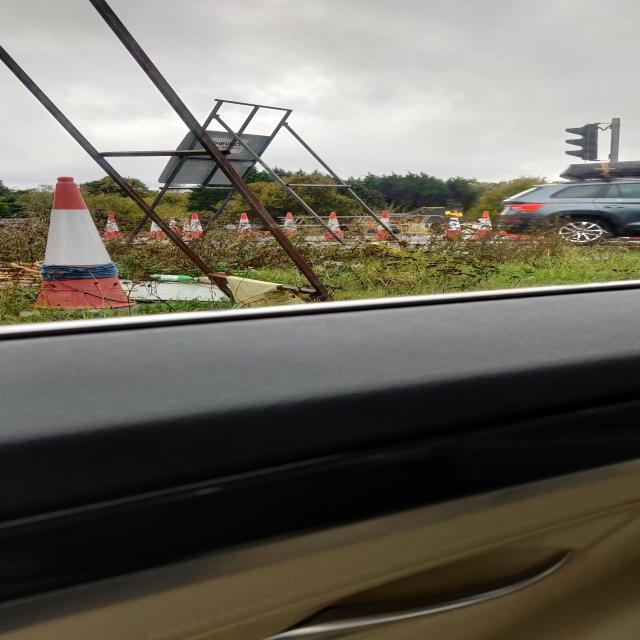litter: (142, 271, 203, 284)
